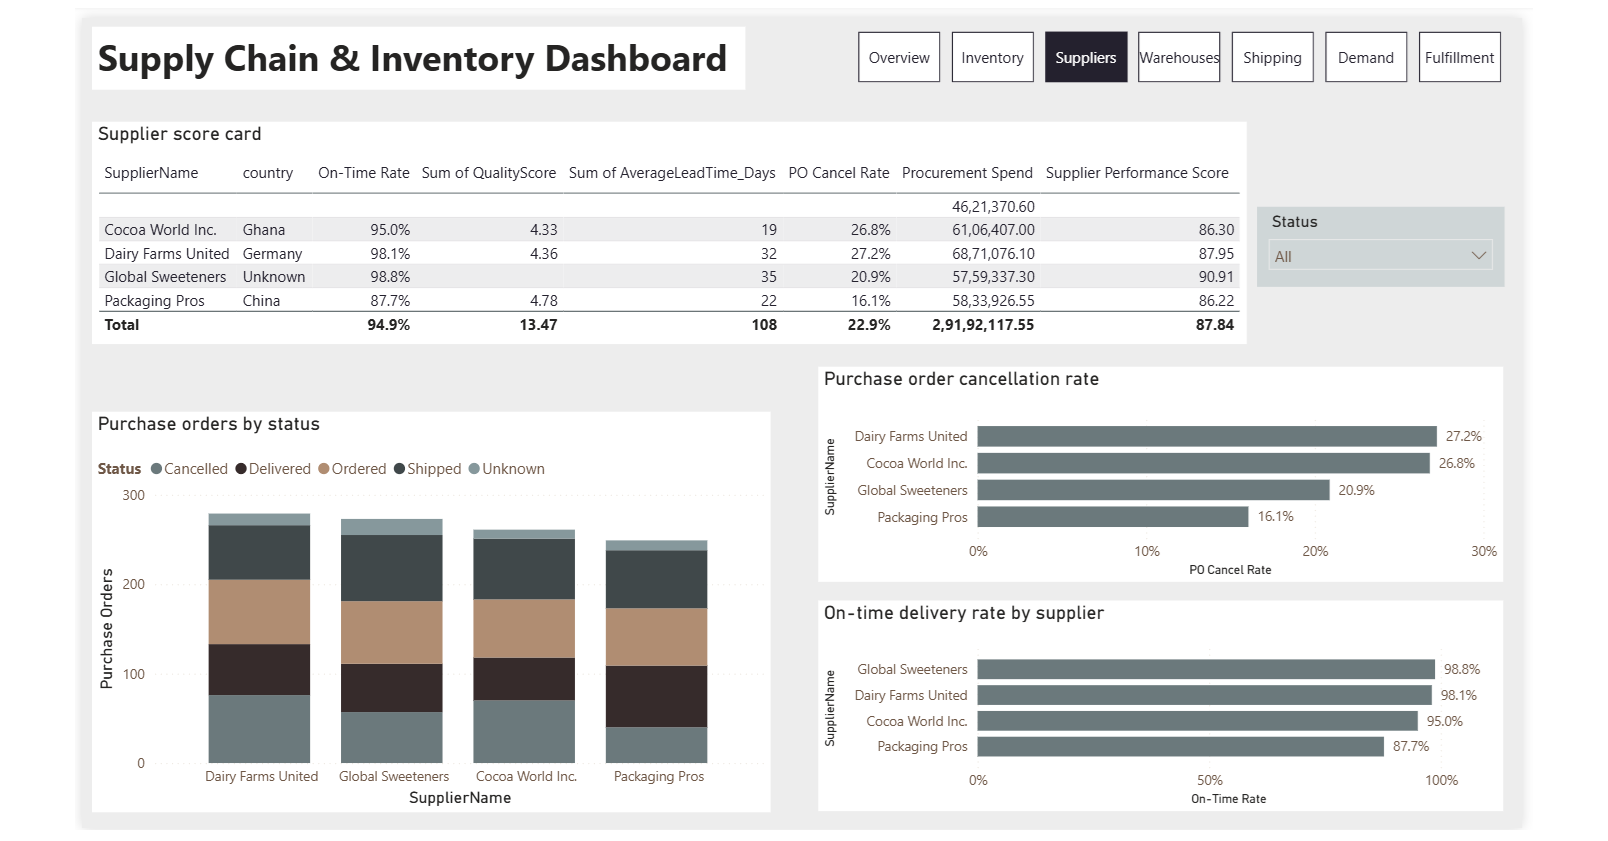

The page's visual inventory and layout, read from the dashboard file:
{"tool":"powerbi","page":{"name":"Suppliers","canvas":[1280,720],"ordinal":2},"visuals":[{"type":"clusteredBarChart","title":"On-time delivery rate by supplier","fields":{"Category":["suppliers_clean.SupplierName"],"Y":["carriers_clean.On-Time Rate"]},"box":[654.7,517.9,608.4,187.4],"z":0},{"type":"clusteredBarChart","title":"Purchase order cancellation rate","fields":{"Category":["suppliers_clean.SupplierName"],"Y":["carriers_clean.PO Cancel Rate"]},"box":[654.7,309.5,608.4,191.6],"z":1000},{"type":"columnChart","title":"Purchase orders by status","fields":{"Category":["suppliers_clean.SupplierName"],"Y":["carriers_clean.Purchase Orders"],"Series":["purchase_orders_clean.Status"]},"box":[8.4,349.5,603.2,355.8],"z":2000},{"type":"tableEx","title":"Supplier score card","fields":{"Values":["suppliers_clean.SupplierName","suppliers_clean.country","carriers_clean.On-Time Rate","Sum(supplier_performance_clean.QualityScore)","Sum(supplier_performance_clean.AverageLeadTime_Days)","carriers_clean.PO Cancel Rate","carriers_clean.Procurement Spend","sales_orders_clean.Supplier Performance Score"]},"box":[8.4,92.6,1026.3,197.9],"z":3000},{"type":"slicer","fields":{"Values":["purchase_orders_clean.Status"]},"box":[1044.2,167.4,219.7,71.5],"z":4000},{"type":"textbox","box":[8.4,7.4,581.1,55.8],"z":5000},{"type":"pageNavigator","box":[689.7,12.6,575,45.7],"z":6000}]}

Visuals, with their boxes on the page's 1280x720 design canvas (x1, y1, x2, y2). These are canvas units, not pixel positions in the 1608x841 screenshot, which may show the page scaled, cropped or inside an application window:
"On-time delivery rate by supplier" clusteredBarChart: pyautogui.locateOnScreen(655, 518, 1263, 705)
"Purchase order cancellation rate" clusteredBarChart: pyautogui.locateOnScreen(655, 310, 1263, 501)
"Purchase orders by status" columnChart: pyautogui.locateOnScreen(8, 350, 612, 705)
"Supplier score card" tableEx: pyautogui.locateOnScreen(8, 93, 1035, 290)
slicer - purchase_orders_clean.Status: pyautogui.locateOnScreen(1044, 167, 1264, 239)
textbox: pyautogui.locateOnScreen(8, 7, 590, 63)
pageNavigator: pyautogui.locateOnScreen(690, 13, 1265, 58)
